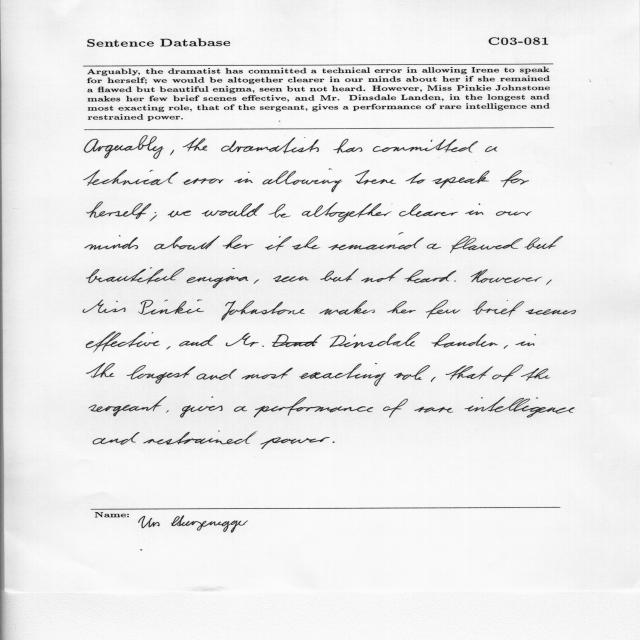word: (254, 397, 373, 418), (272, 332, 420, 348), (465, 397, 575, 418), (299, 363, 386, 386), (262, 169, 343, 192), (84, 136, 164, 159), (302, 203, 392, 223), (143, 430, 258, 445), (86, 267, 185, 284), (221, 301, 305, 321), (221, 137, 319, 154), (328, 233, 424, 250), (89, 397, 167, 417), (84, 170, 179, 186), (86, 332, 160, 352), (373, 139, 478, 153), (127, 365, 195, 384), (450, 236, 523, 253), (187, 268, 248, 288), (87, 202, 152, 219), (471, 269, 543, 283), (154, 235, 220, 250), (138, 300, 204, 315), (432, 333, 498, 348), (432, 171, 490, 188), (180, 397, 223, 418), (202, 203, 264, 217), (473, 300, 524, 317), (319, 300, 375, 315), (260, 437, 330, 449), (85, 235, 138, 250), (399, 204, 458, 217), (446, 366, 493, 381), (404, 270, 456, 283), (361, 268, 403, 283), (426, 300, 461, 318), (241, 368, 293, 380), (355, 170, 396, 185), (93, 432, 140, 445), (83, 300, 126, 313), (492, 364, 523, 382), (394, 365, 430, 380), (525, 236, 563, 250), (226, 333, 264, 347), (320, 269, 359, 282), (501, 170, 529, 187), (383, 399, 408, 418), (196, 369, 237, 380), (86, 363, 115, 378), (223, 235, 253, 249), (179, 335, 217, 346), (334, 139, 363, 153), (265, 236, 292, 251), (293, 236, 321, 250), (521, 368, 550, 381), (387, 301, 416, 313), (183, 138, 207, 151), (269, 204, 291, 218), (526, 309, 576, 315), (184, 178, 224, 185), (273, 276, 309, 283), (516, 334, 537, 346), (414, 407, 453, 413), (465, 203, 484, 215), (406, 173, 426, 184), (234, 172, 253, 183), (496, 211, 532, 216), (168, 211, 191, 218), (427, 244, 441, 250), (234, 406, 247, 412), (485, 146, 497, 152), (150, 212, 157, 221), (546, 279, 552, 285), (254, 279, 259, 284), (431, 377, 436, 382), (170, 150, 174, 155), (167, 346, 171, 350), (504, 345, 508, 349), (166, 410, 169, 413), (333, 441, 335, 443), (454, 281, 456, 282)
